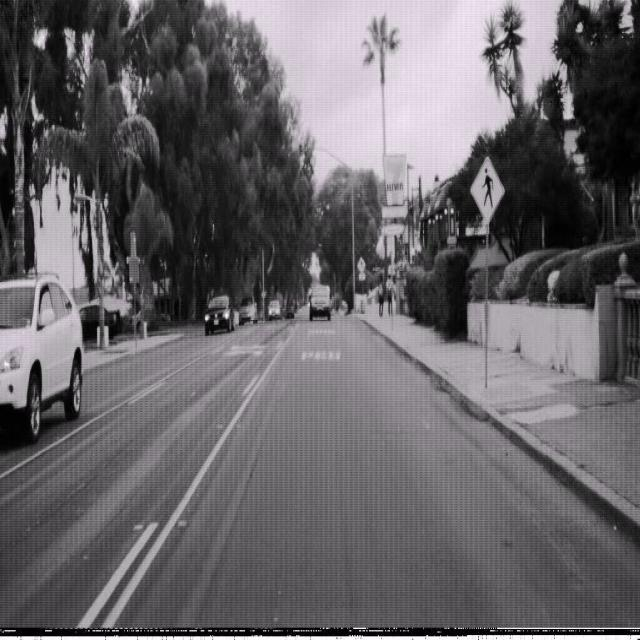pedestrianCrossing: (470, 154, 505, 224)
